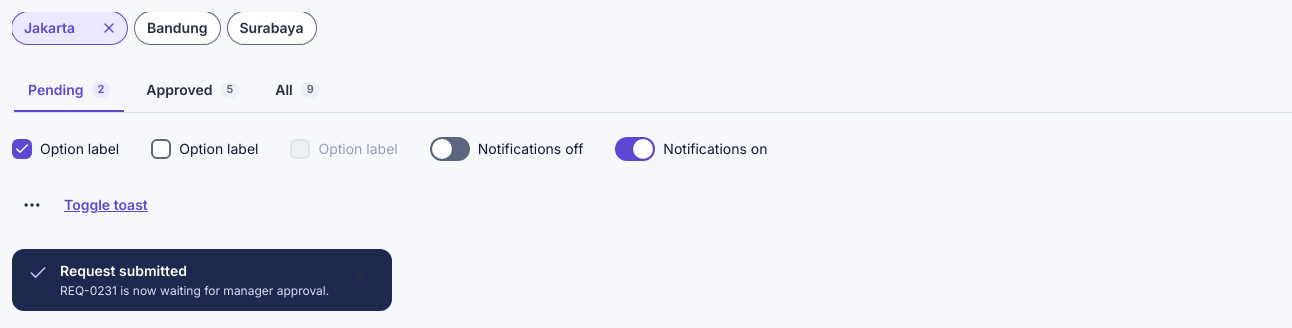
InteractiveShowcase › brings the toast back with the toggle
Click the button "Toggle toast" at (106, 205), box [64,195,148,215]
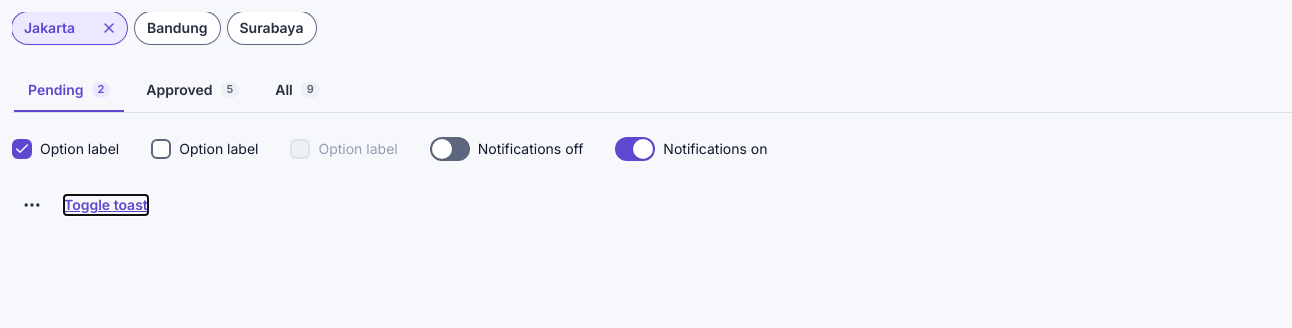
Now the text "Request submitted" is gone
Click the button "Toggle toast" at (106, 205), box [64,195,148,215]
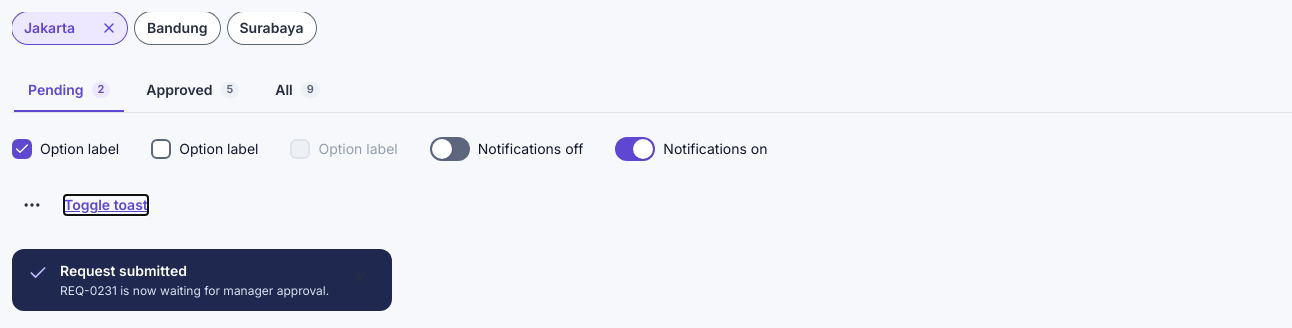
Now the text "Request submitted" is shown, box [60,262,187,279]
